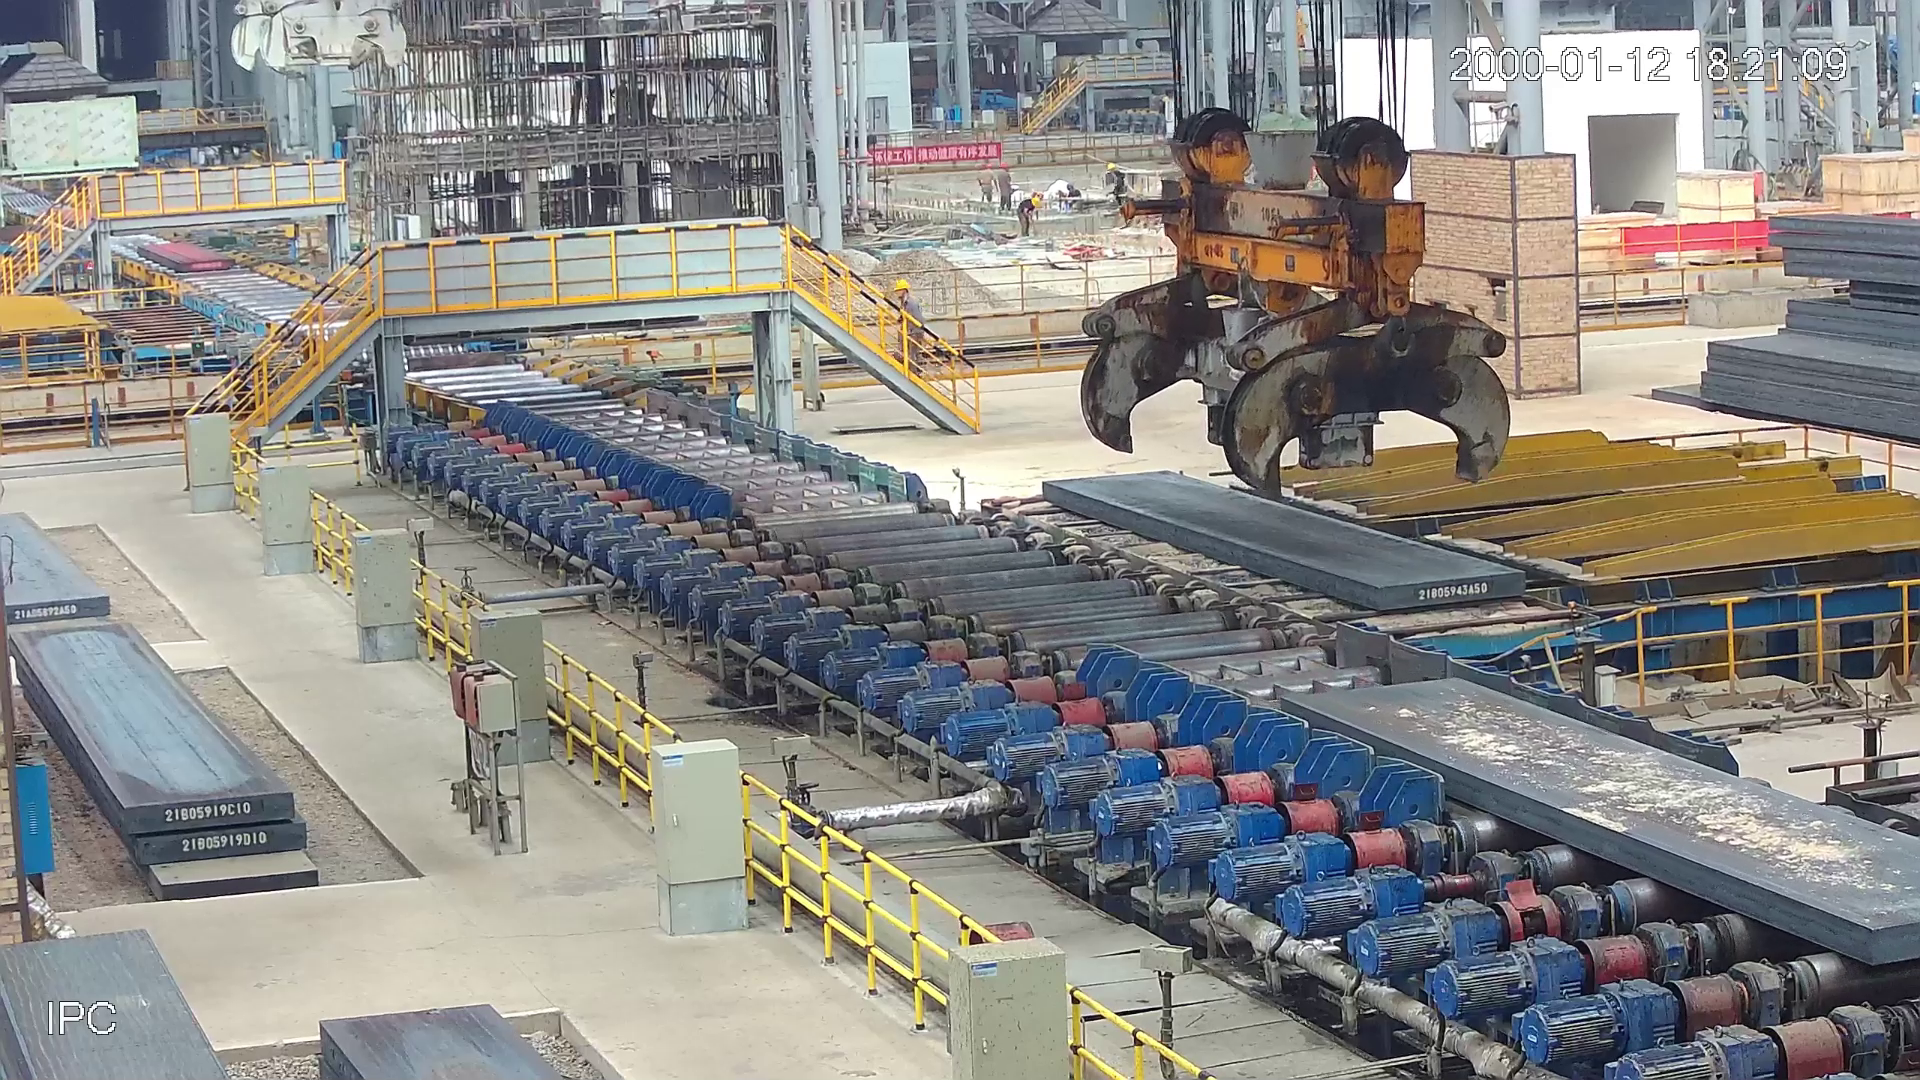crane: (1072, 94, 1520, 498)
slab: (1274, 674, 1920, 968), (1029, 467, 1536, 612), (135, 240, 241, 276)
